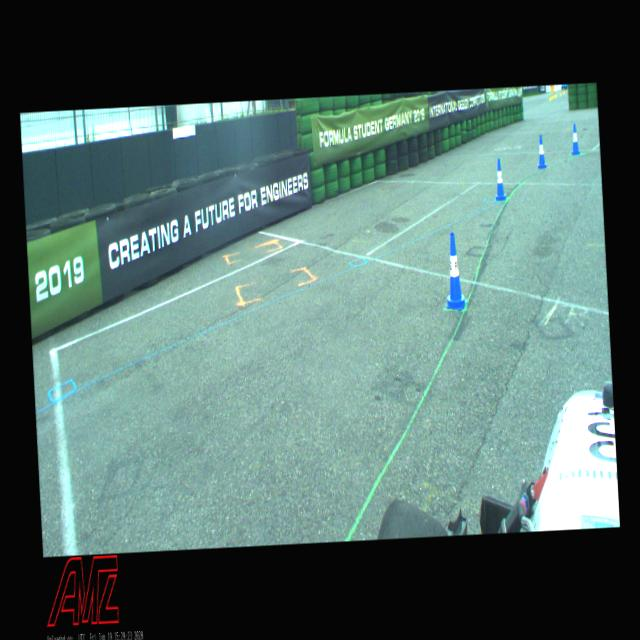blue_cone: (442, 232, 468, 312), (494, 158, 506, 202), (536, 134, 546, 168), (570, 123, 580, 155)
yellow_cone: (549, 92, 551, 101), (555, 90, 557, 98), (554, 90, 556, 98), (551, 91, 553, 99), (563, 88, 565, 94), (560, 90, 562, 96)
